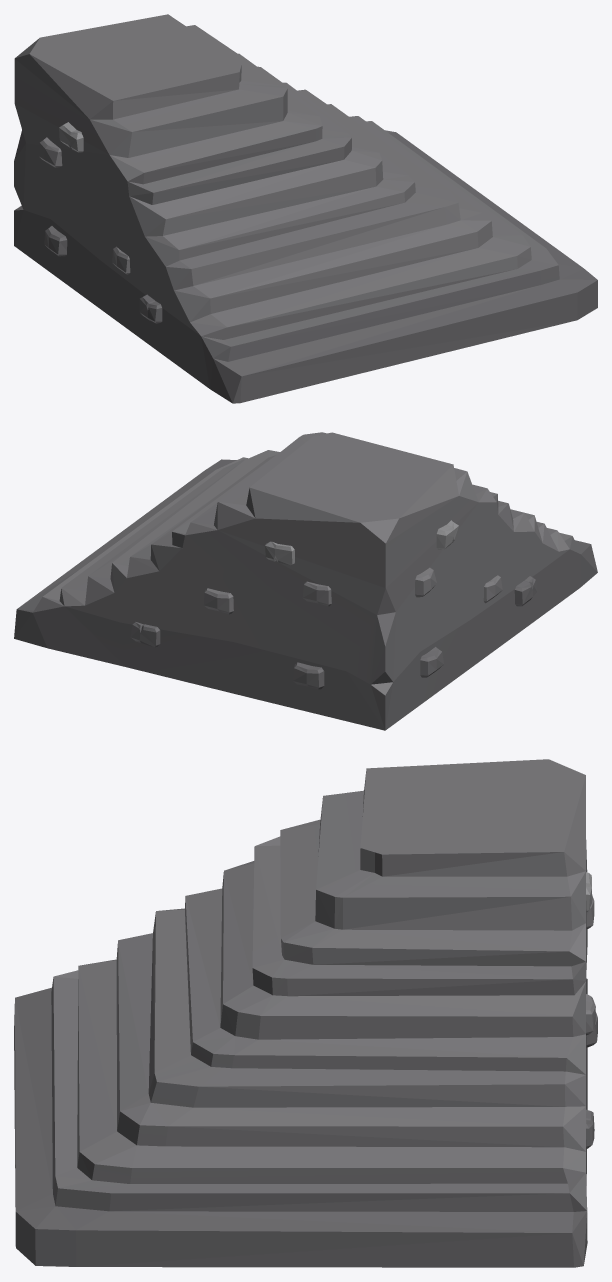
The model's file is SM_Bld_StairsLarge_Corner_02.gltf.
3 views of the same model, one above another, from view 1: azimuth 30°, elevation 25°; view 2: azimuth 150°, elevation 25°; view 3: azimuth 270°, elevation 25° (orthographic). The views are drawn at different scales.
Parts seen in each view (by area): view 1: SM_Bld_StairsLarge_Corner_02; view 2: SM_Bld_StairsLarge_Corner_02; view 3: SM_Bld_StairsLarge_Corner_02.
Part boxes in pixels (x1,y1,x2,y2): SM_Bld_StairsLarge_Corner_02: (14, 14, 597, 403); SM_Bld_StairsLarge_Corner_02: (14, 432, 597, 730); SM_Bld_StairsLarge_Corner_02: (14, 759, 597, 1267).
Bounding box in the file's own units: 3.94 × 1.98 × 3.93.
1 material, 1 textured.
